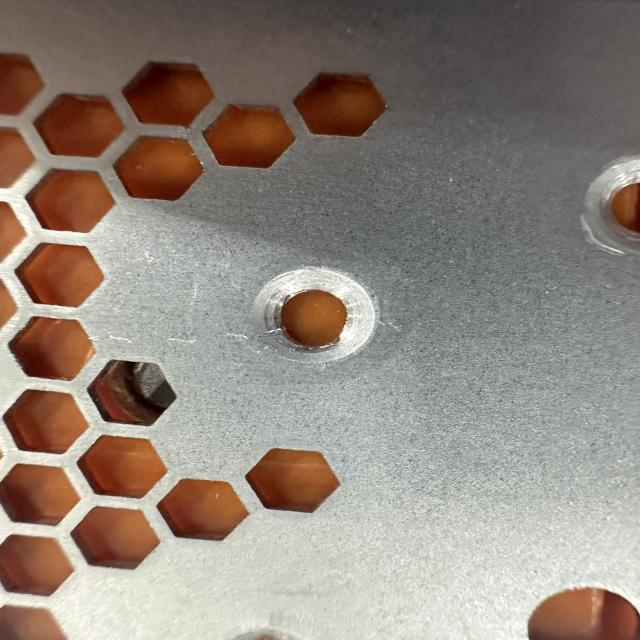Missing screw: (234, 258, 390, 368)
